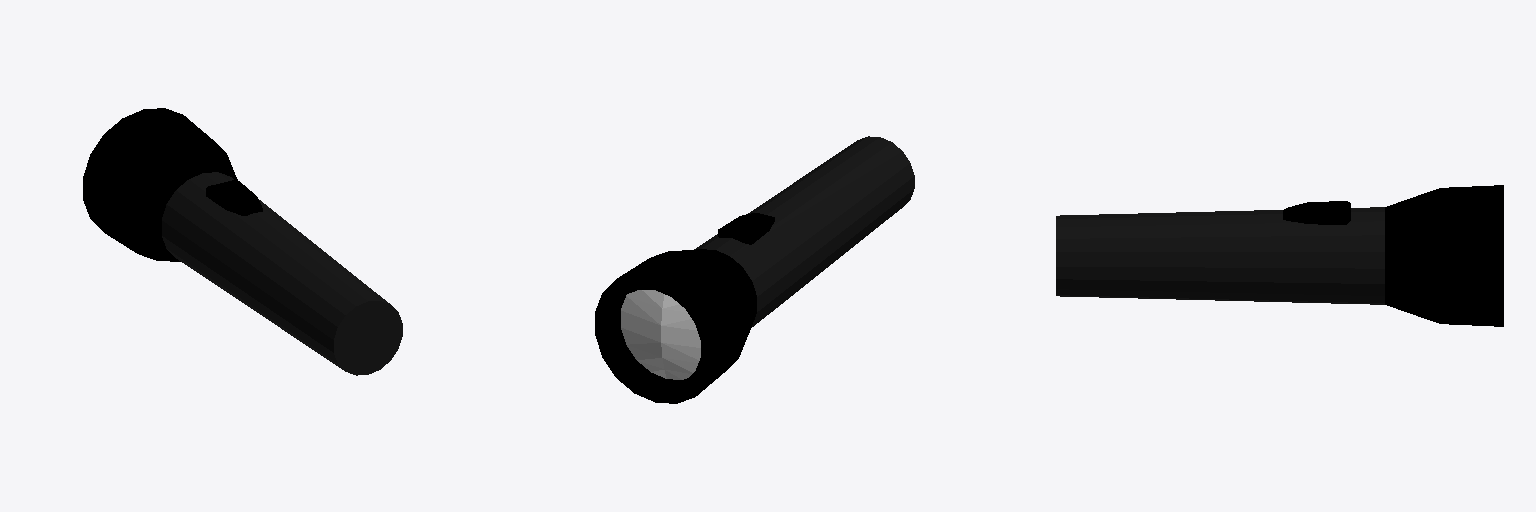
File: FlashlightAndMat.obj
3 views of the same model, side by side, from view 1: azimuth 30°, elevation 25°; view 2: azimuth 150°, elevation 25°; view 3: azimuth 270°, elevation 25° (orthographic).
Visible parts, largest first — view 1: Flashlight; view 2: Flashlight; view 3: Flashlight.
Part boxes in pixels (x1,y1,x2,y2): Flashlight: (83, 108, 402, 375); Flashlight: (595, 136, 914, 403); Flashlight: (1056, 185, 1503, 326).
Size of the model in its own units: 7.2 by 7.32 by 23.06.